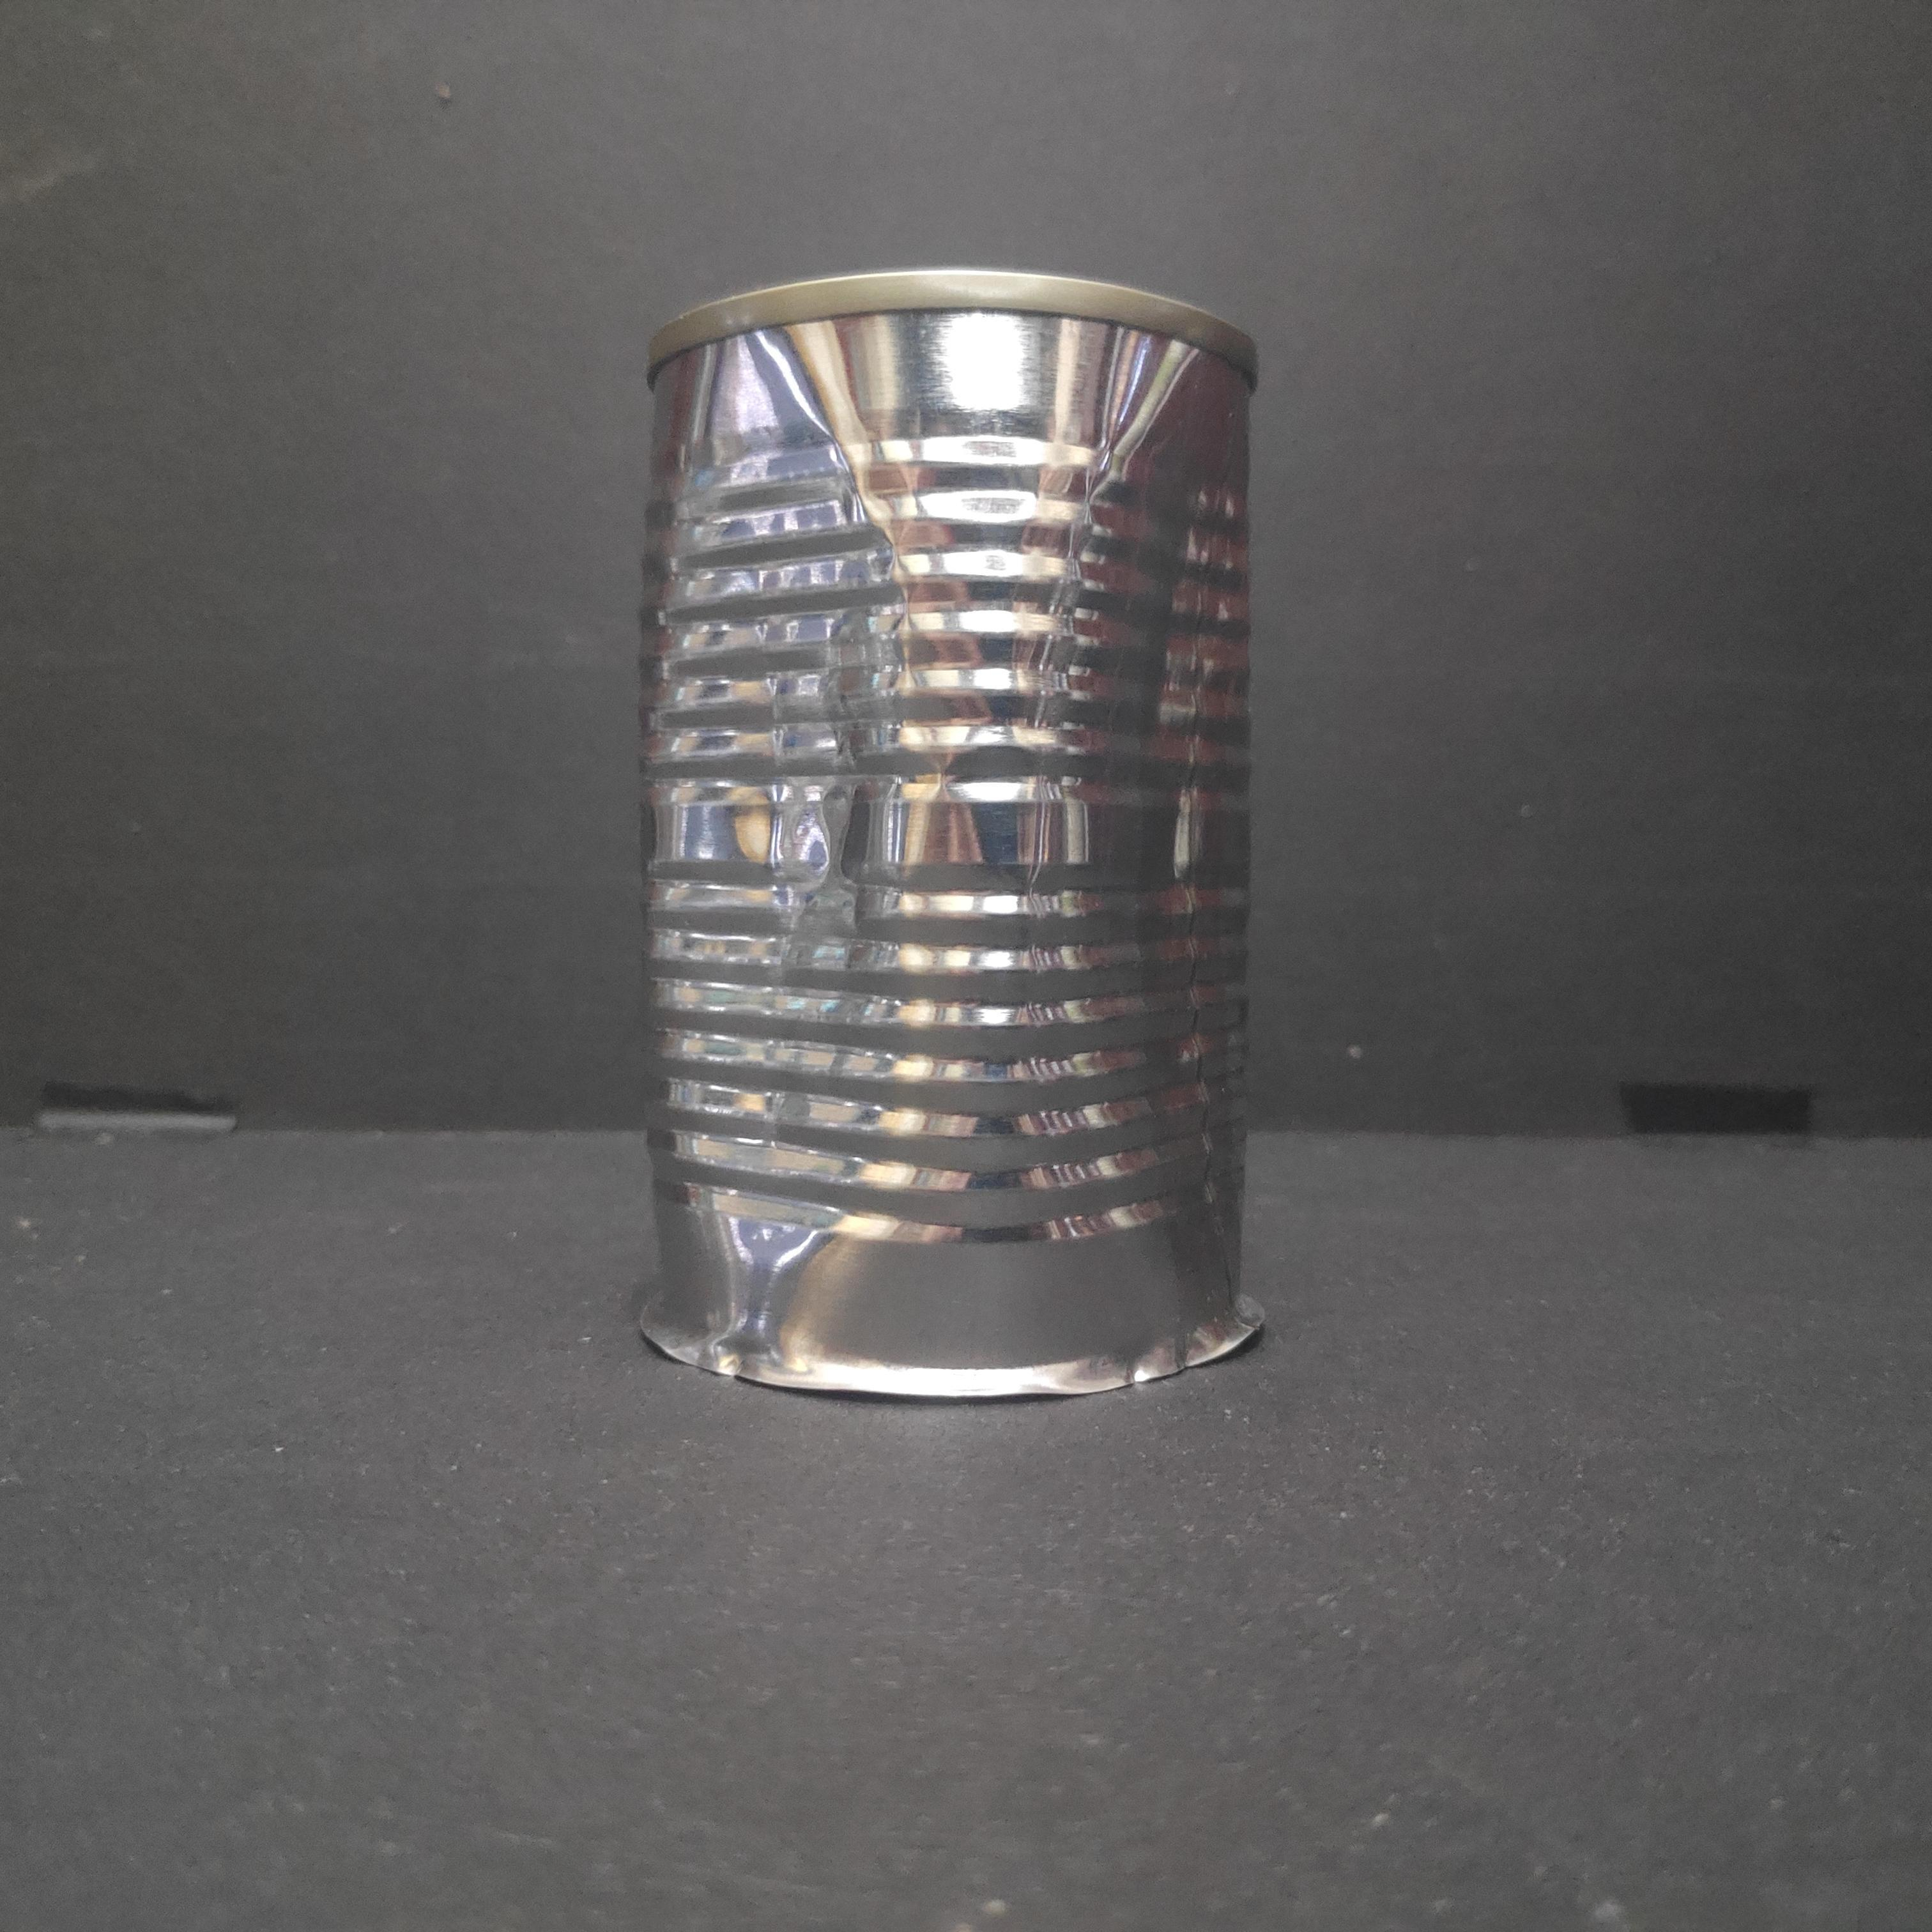Dented: (594, 234, 1306, 1419)
